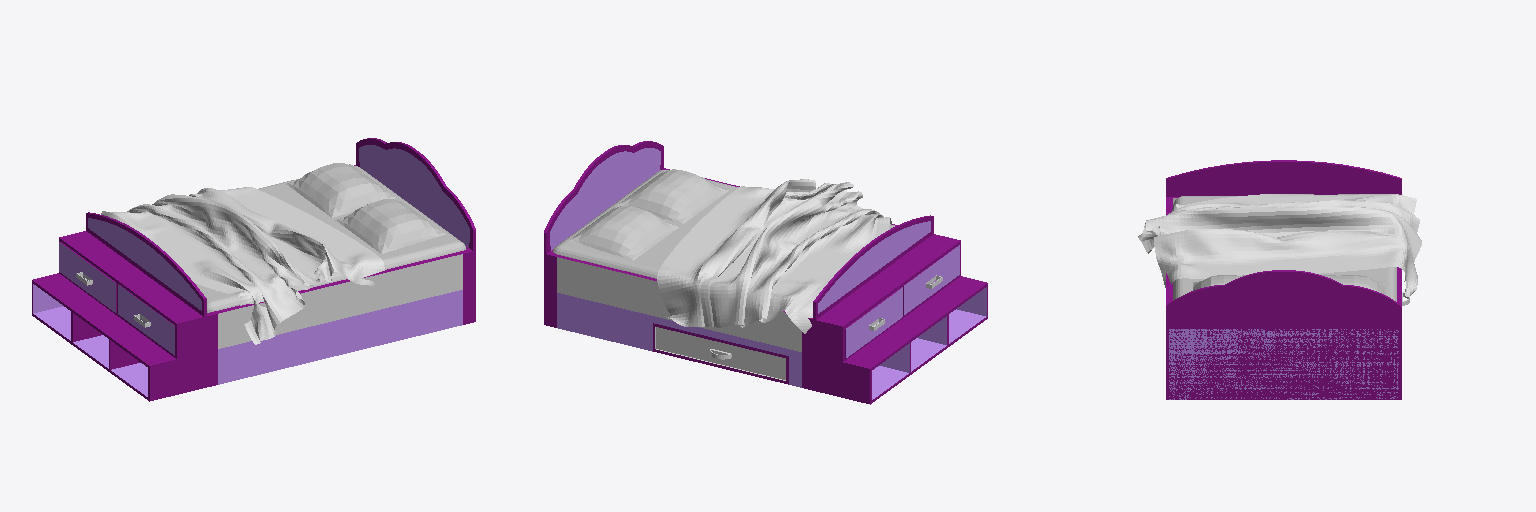
3 renders of one model, left to right at view 1: azimuth 30°, elevation 25°; view 2: azimuth 150°, elevation 25°; view 3: azimuth 270°, elevation 25°, orthographic.
Parts seen in each view (by area): view 1: krister_001, obj_04_1_001, Layer0_001, Krister_001, obj_00_1_001, obj_05_1_001, obj_06_1_001; view 2: obj_04_1_001, krister_001, Layer0_001, Krister_001, obj_06_1_001, obj_05_1_001, obj_00_1_001; view 3: Krister_001, obj_04_1_001, krister_001, Layer0_001, obj_00_1_001, obj_06_1_001.
Part boxes in pixels (bbox=[...]): krister_001: bbox=[32, 212, 217, 401]; obj_04_1_001: bbox=[101, 187, 384, 344]; Layer0_001: bbox=[207, 246, 470, 384]; Krister_001: bbox=[354, 138, 475, 324]; obj_00_1_001: bbox=[195, 166, 465, 312]; obj_05_1_001: bbox=[335, 199, 445, 253]; obj_06_1_001: bbox=[286, 163, 395, 217]; obj_04_1_001: bbox=[657, 179, 891, 333]; krister_001: bbox=[802, 215, 987, 404]; Layer0_001: bbox=[549, 169, 897, 387]; Krister_001: bbox=[544, 141, 669, 327]; obj_06_1_001: bbox=[569, 206, 678, 260]; obj_05_1_001: bbox=[618, 169, 728, 223]; obj_00_1_001: bbox=[553, 170, 894, 278]; Krister_001: bbox=[1166, 270, 1401, 399]; obj_04_1_001: bbox=[1138, 194, 1421, 296]; krister_001: bbox=[1166, 160, 1401, 201]; Layer0_001: bbox=[1166, 197, 1409, 399]; obj_00_1_001: bbox=[1173, 196, 1396, 301]; obj_06_1_001: bbox=[1322, 275, 1384, 294].
Size of the model in its own units: 94.49 by 35.46 by 71.24.